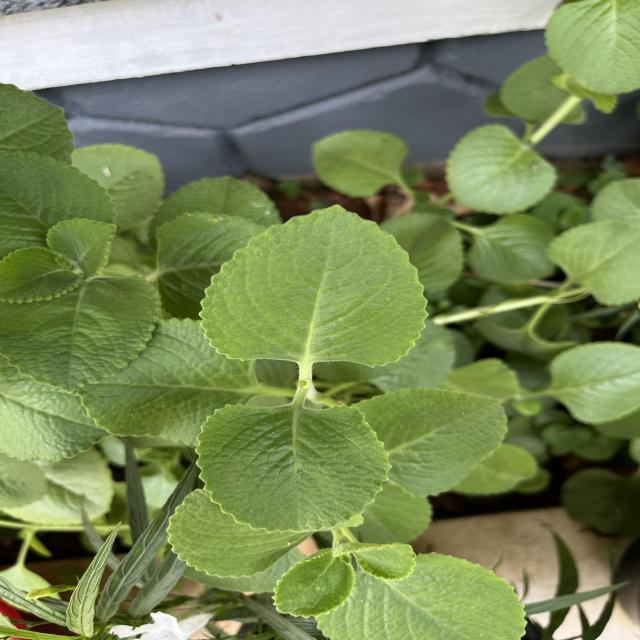Plectranthus barbatus: (196, 202, 430, 368), (192, 400, 396, 535), (0, 273, 163, 395), (316, 551, 530, 640), (351, 386, 509, 498), (442, 120, 560, 216), (547, 217, 640, 306), (548, 338, 640, 422), (307, 128, 415, 198), (271, 547, 358, 618), (0, 244, 86, 304)
